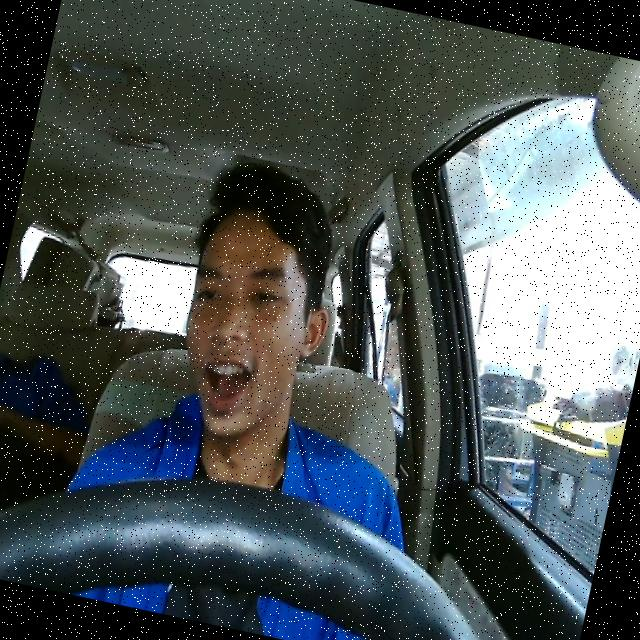yarning: (162, 204, 346, 451)
